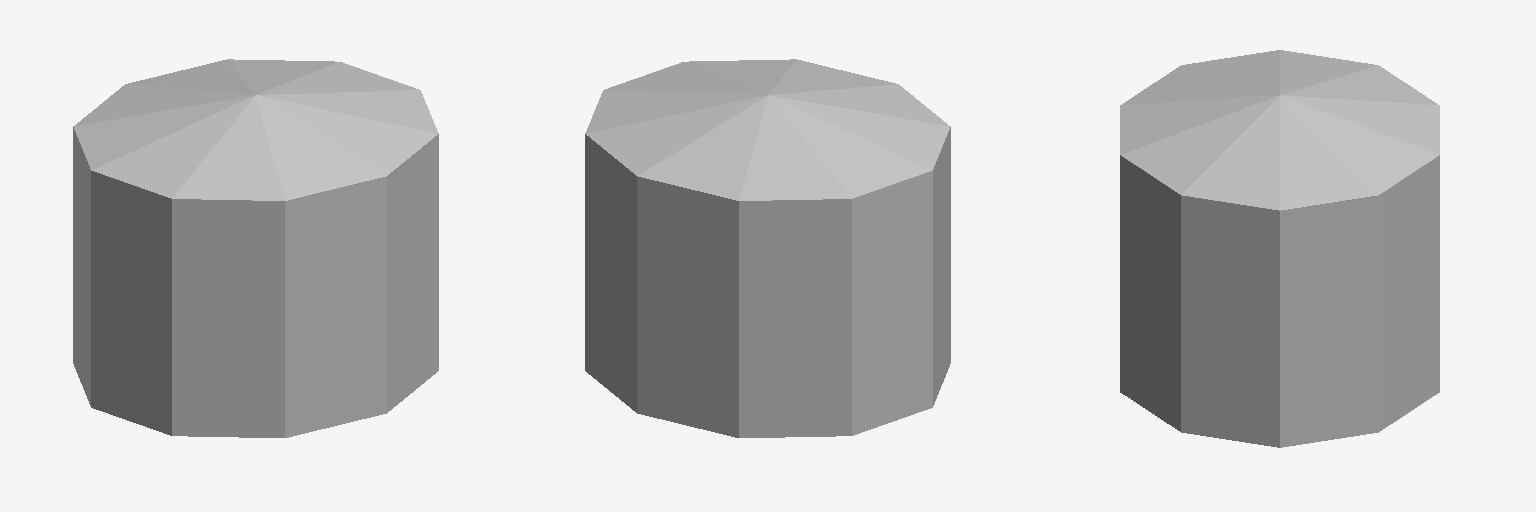
Rendered from Maki.OBJ.
3 views of the same model, side by side, from view 1: azimuth 30°, elevation 25°; view 2: azimuth 150°, elevation 25°; view 3: azimuth 270°, elevation 25° (orthographic).
Size of the model in its own units: 0.0739 by 0.069 by 0.062.